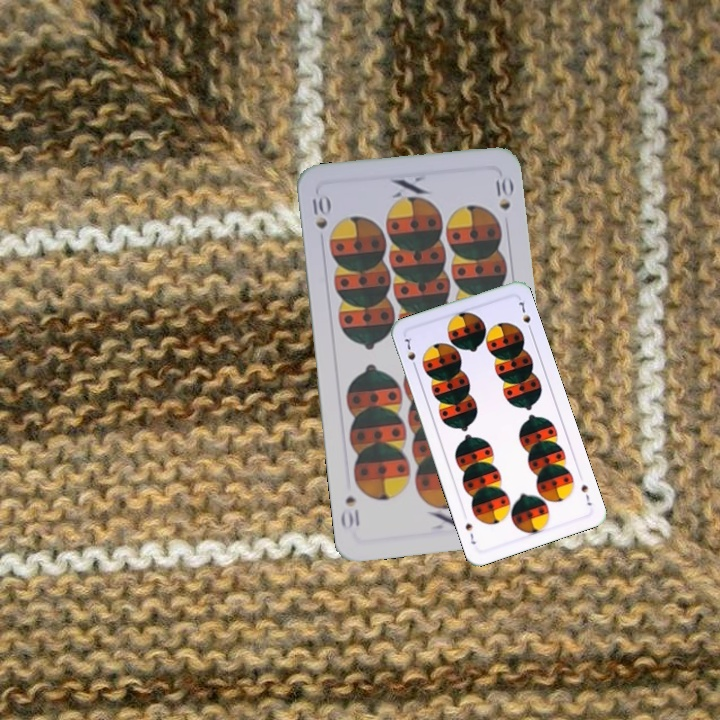S10: (308, 193, 331, 232)
S7: (400, 334, 419, 372), (577, 480, 594, 508)
